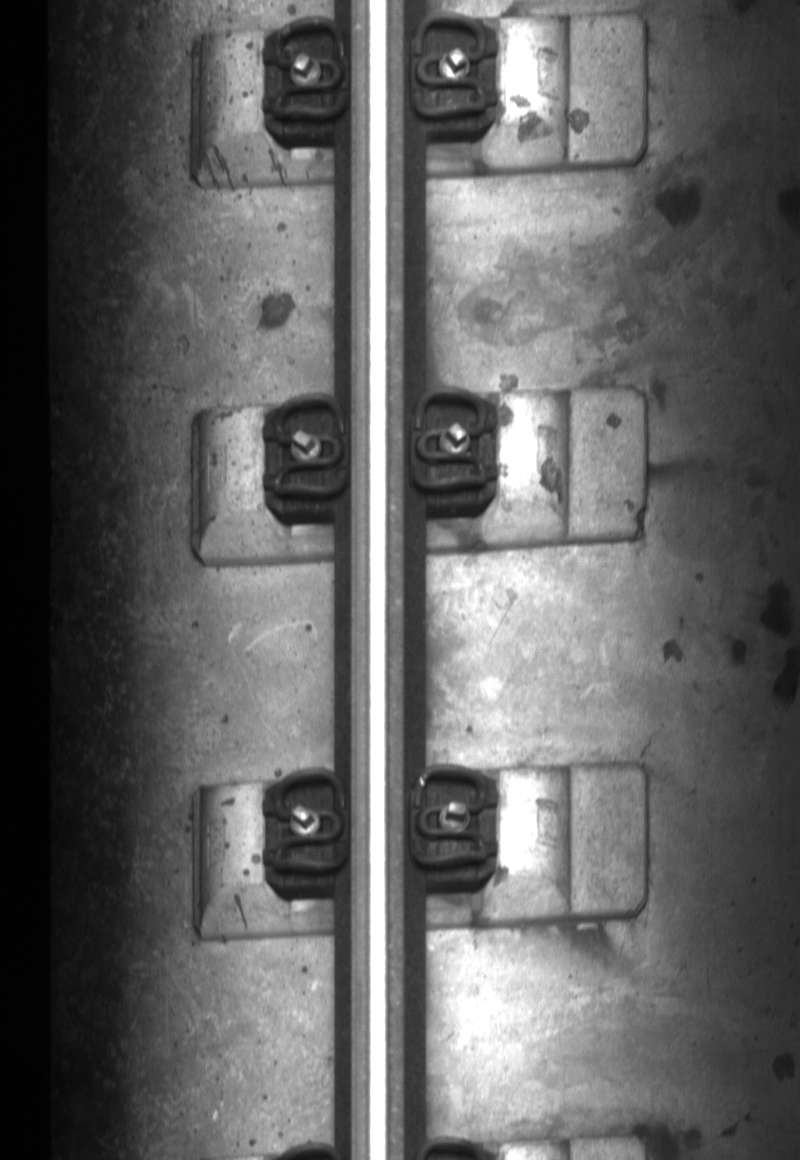l_faster: (263, 389, 351, 505), (266, 764, 350, 879), (268, 12, 349, 126)
r_faster: (407, 760, 494, 877), (407, 7, 493, 124), (407, 382, 495, 496)
